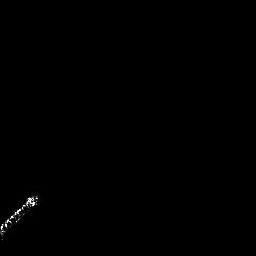ship: (1, 193, 40, 243)
